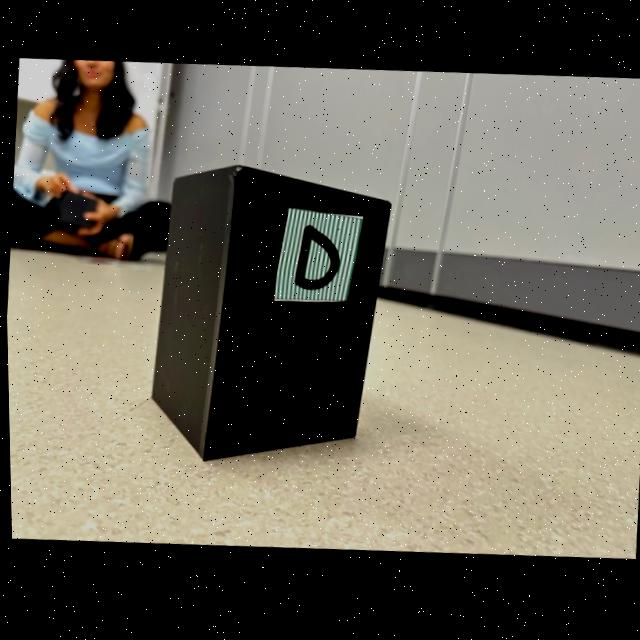D: (292, 227, 338, 291)
